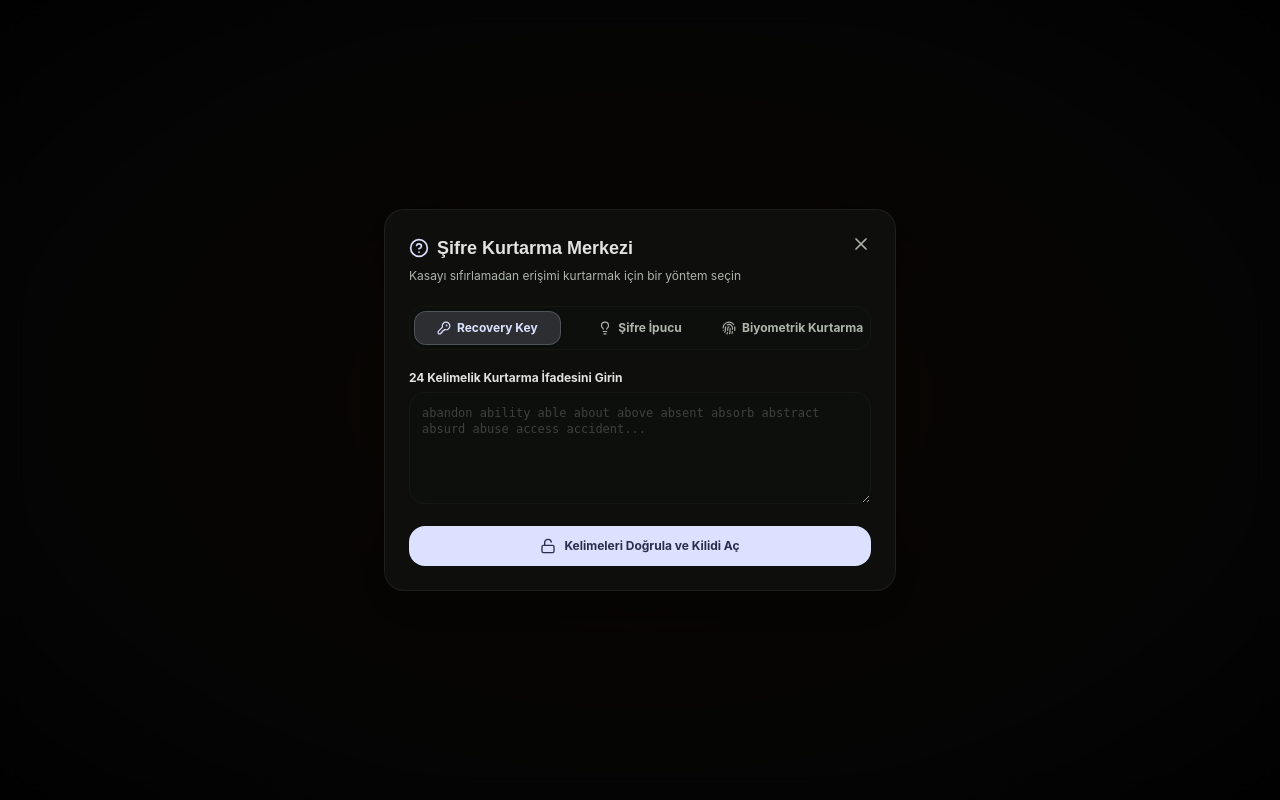
Test case: LockScreenRecoveryModal › rejects weak replacement passwords with the complexity error
Replace the text in the text box with test id "lock-recovery-words-input" with "word1 word2 word3 word4 word5 word6 word7 word8 word9 word10 word11 word12". click: x=640, y=448
box: [409,392,871,504]
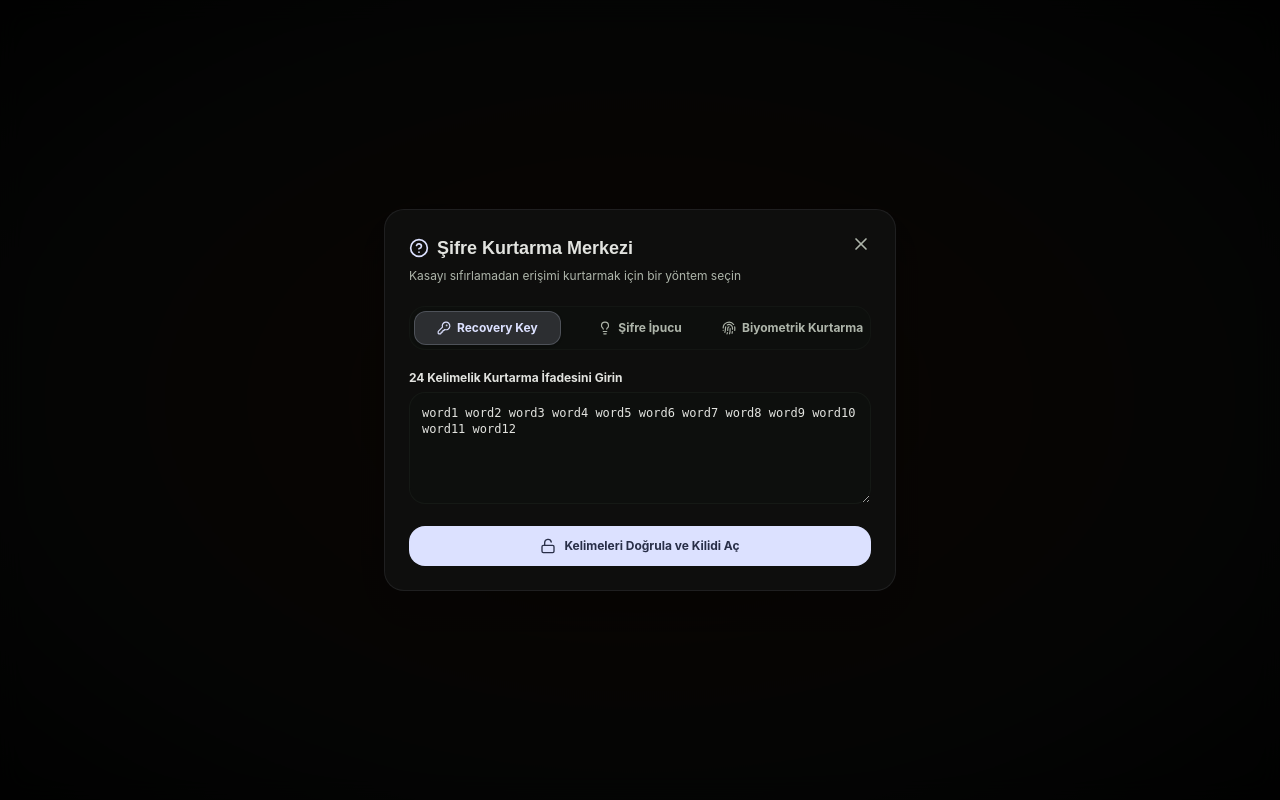
Click the button with test id "lock-recovery-submit-button". click: x=640, y=546
box: [409,526,871,566]
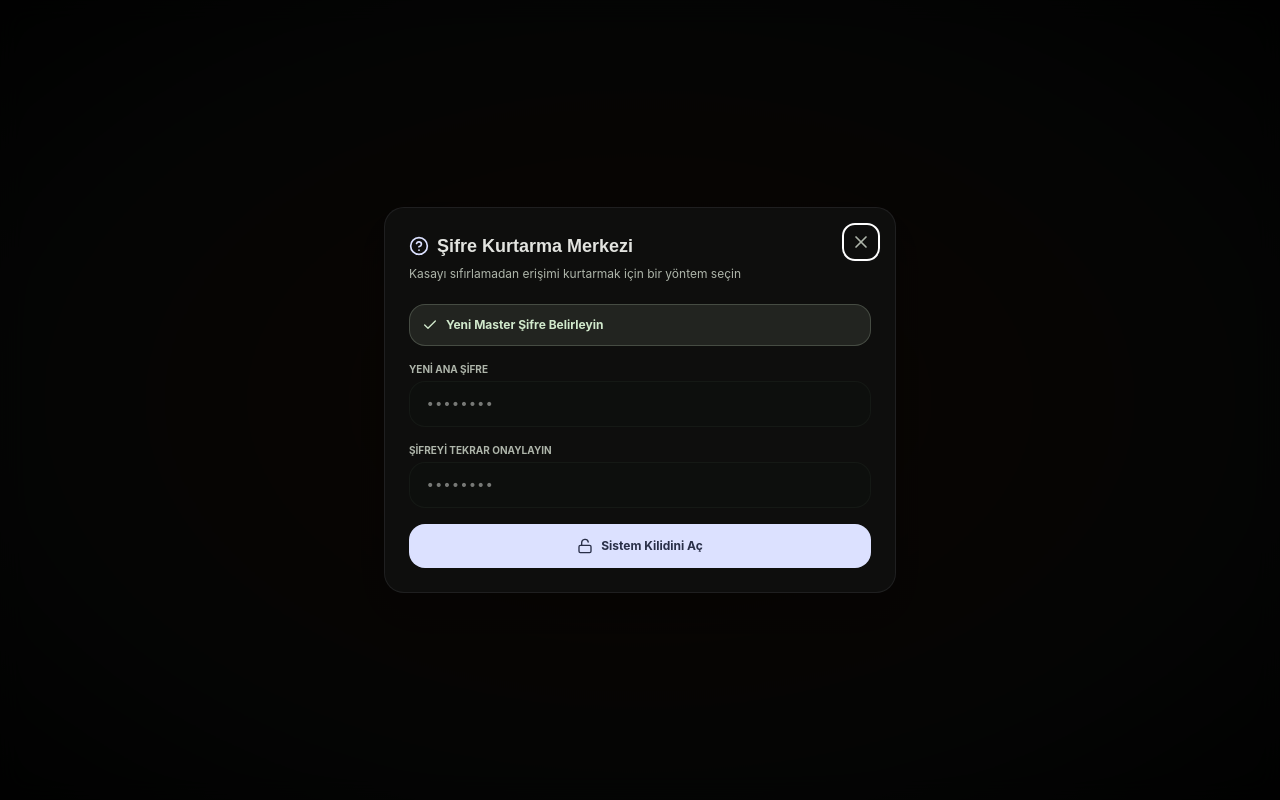
Result: the password field with test id "lock-recovery-new-password" is shown
Type "weakpass" into the password field with test id "lock-recovery-new-password". click: x=640, y=404
box: [409,381,871,427]
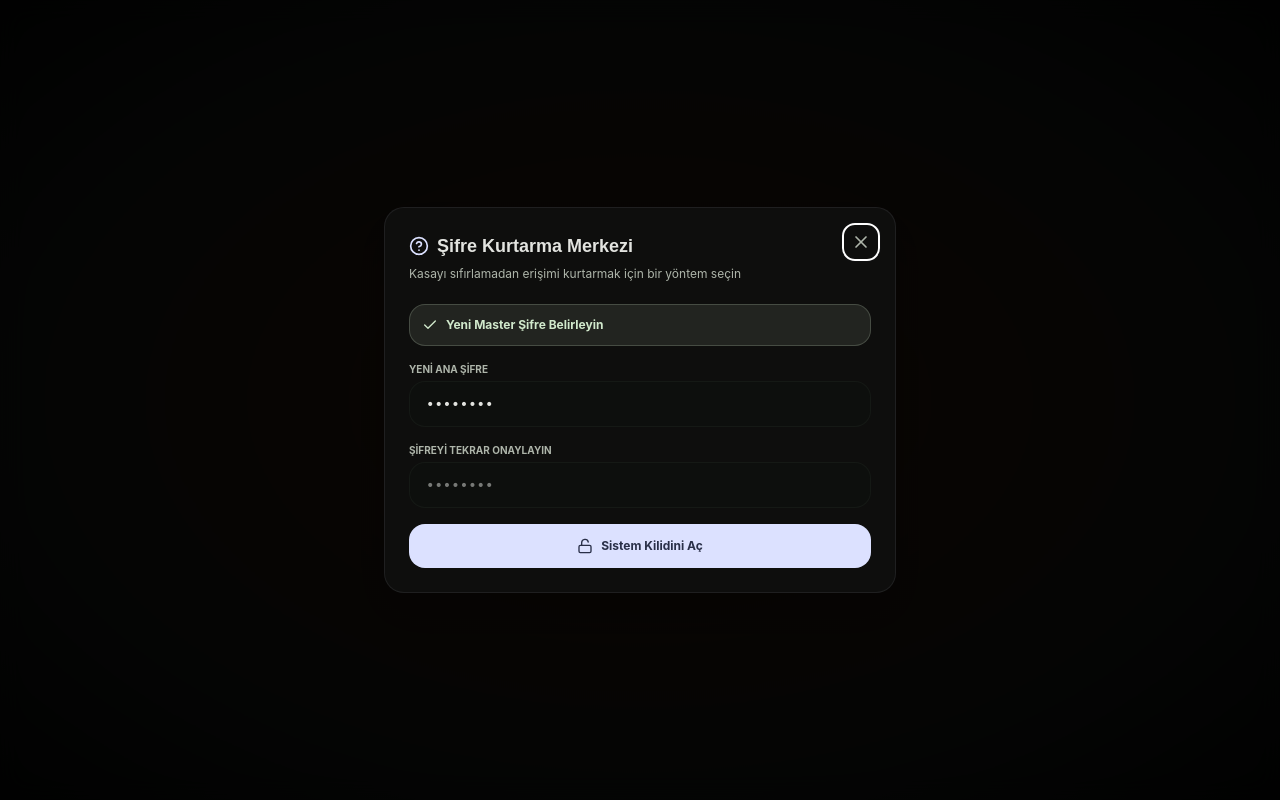
Type "weakpass" into the password field with test id "lock-recovery-confirm-password". click: x=640, y=485
box: [409,462,871,508]
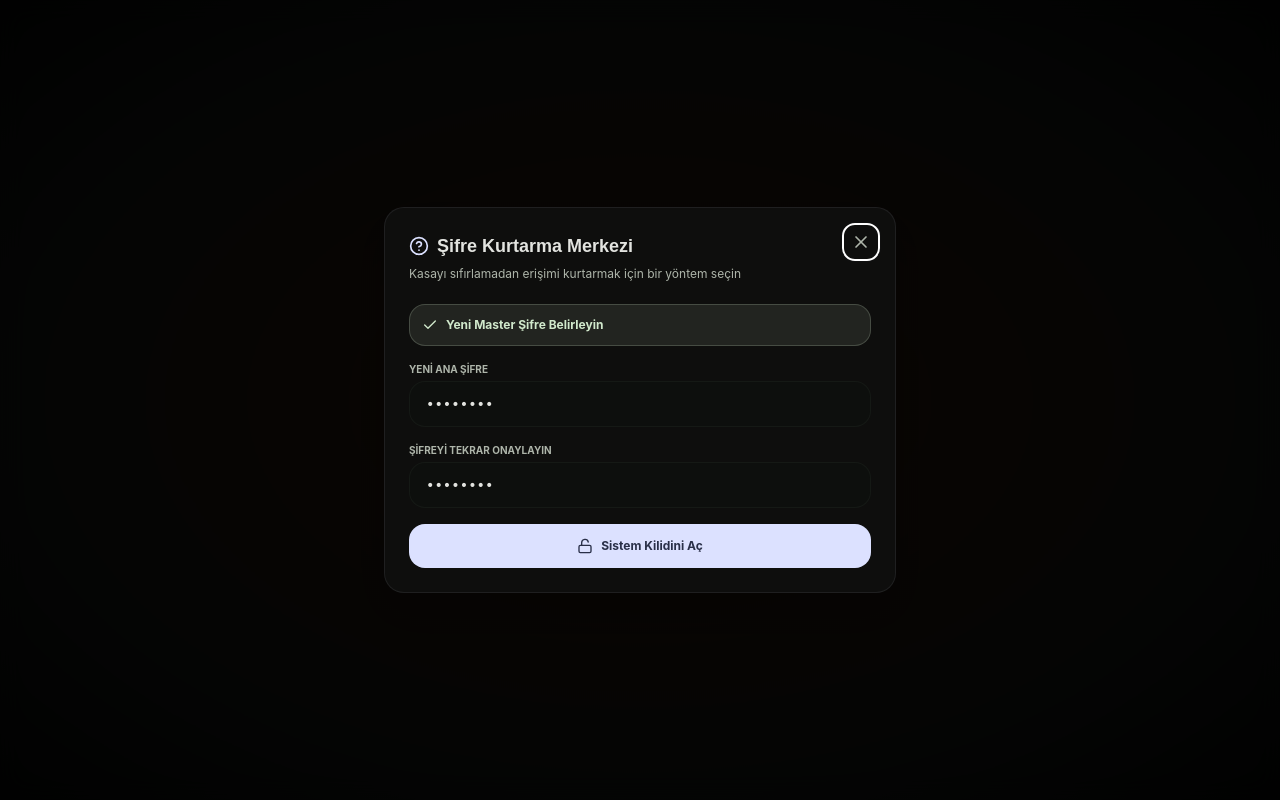
Click the button with test id "lock-recovery-apply-button". click: x=640, y=546
box: [409,524,871,568]
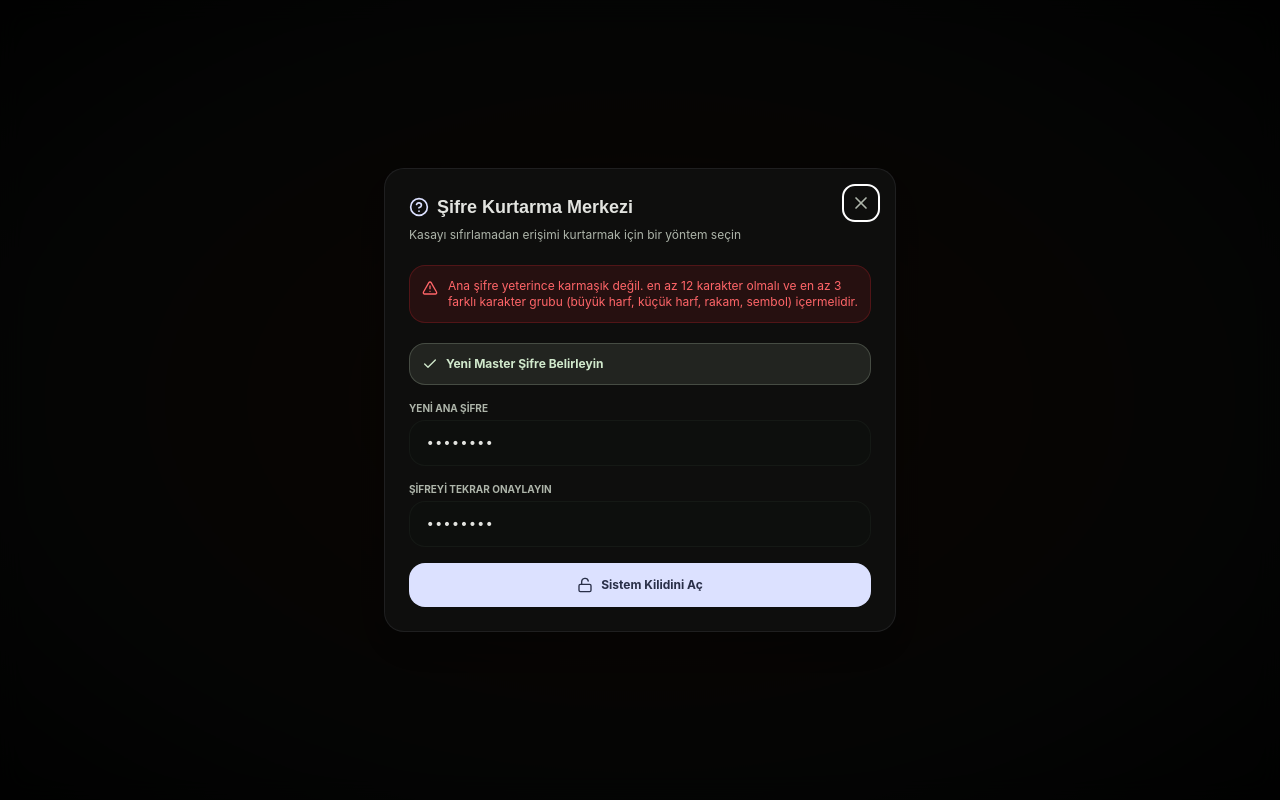
Result: the element with test id "lock-recovery-error" shows "karmaşık" at [448,278,858,309]
